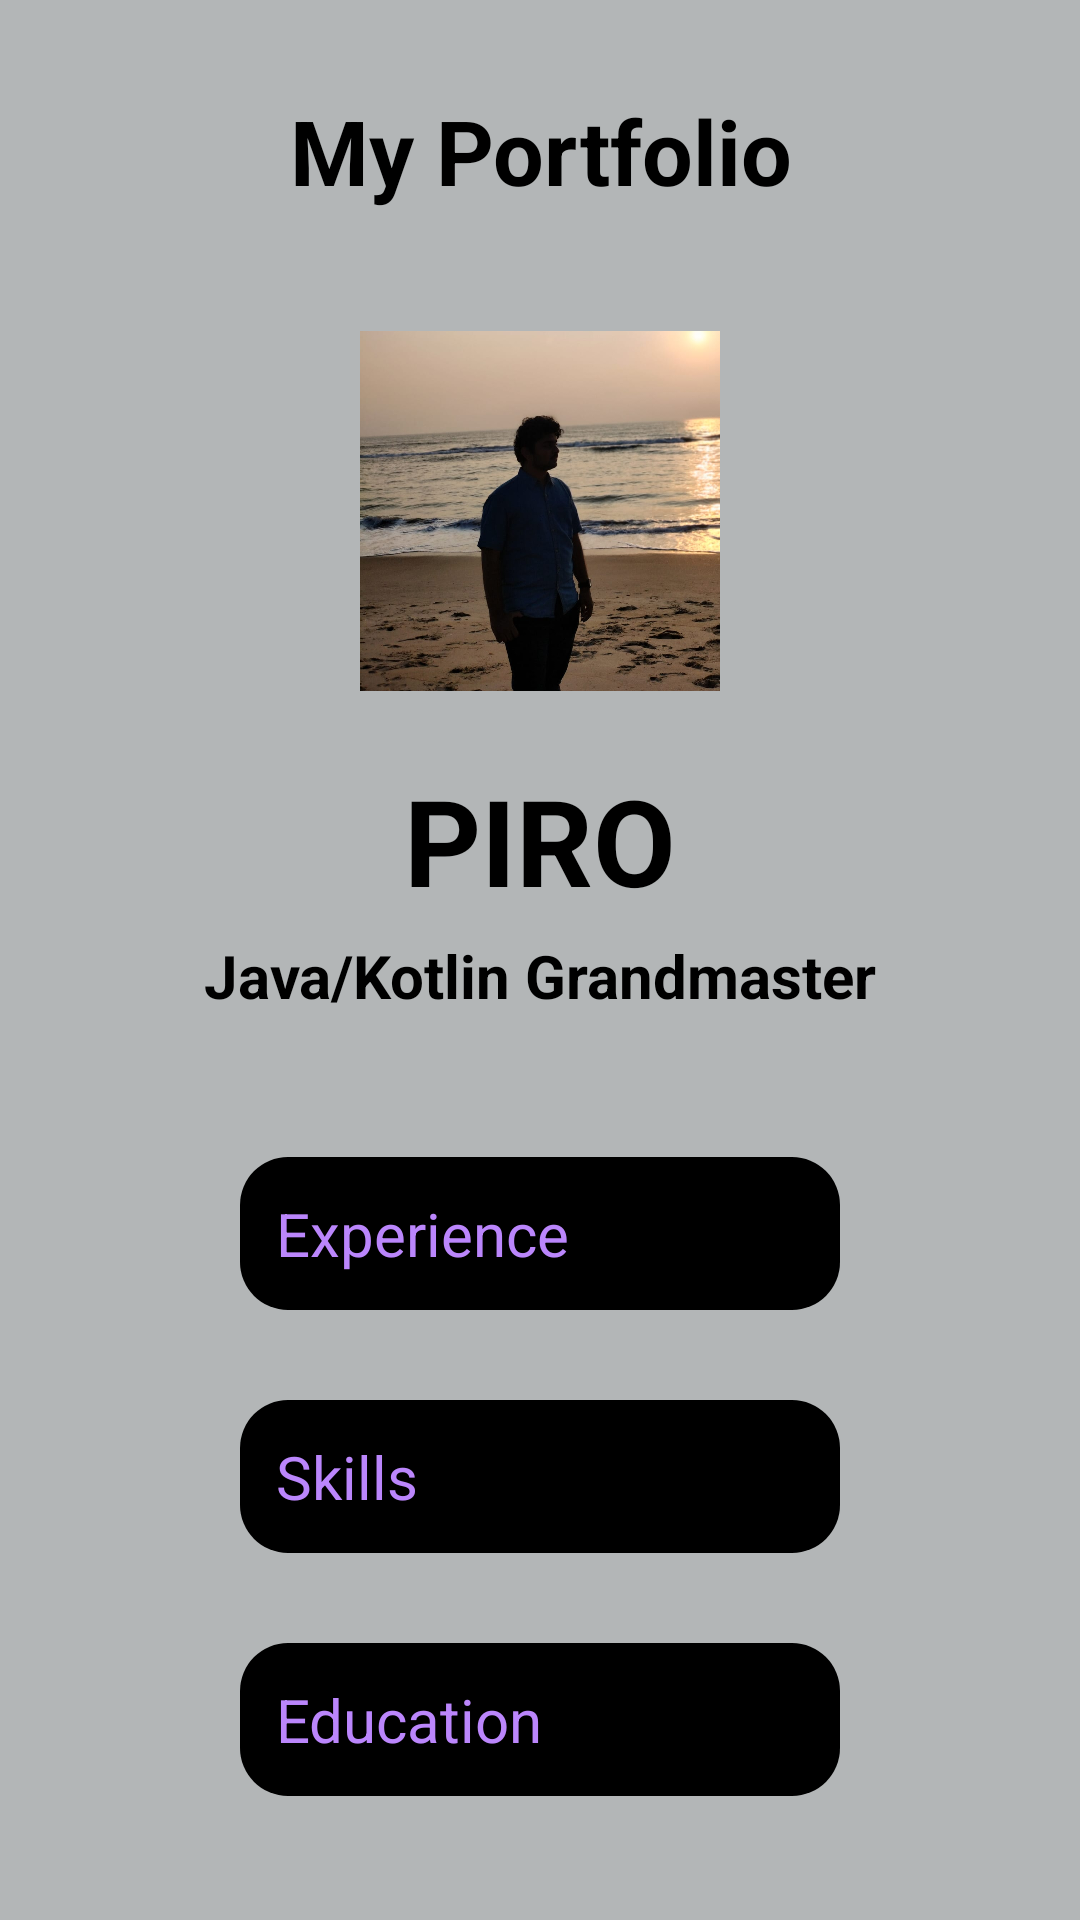

Named icons in this screenshot (1080 × 1920) and their centers, point (x, y):
imgg: point (540, 511)
